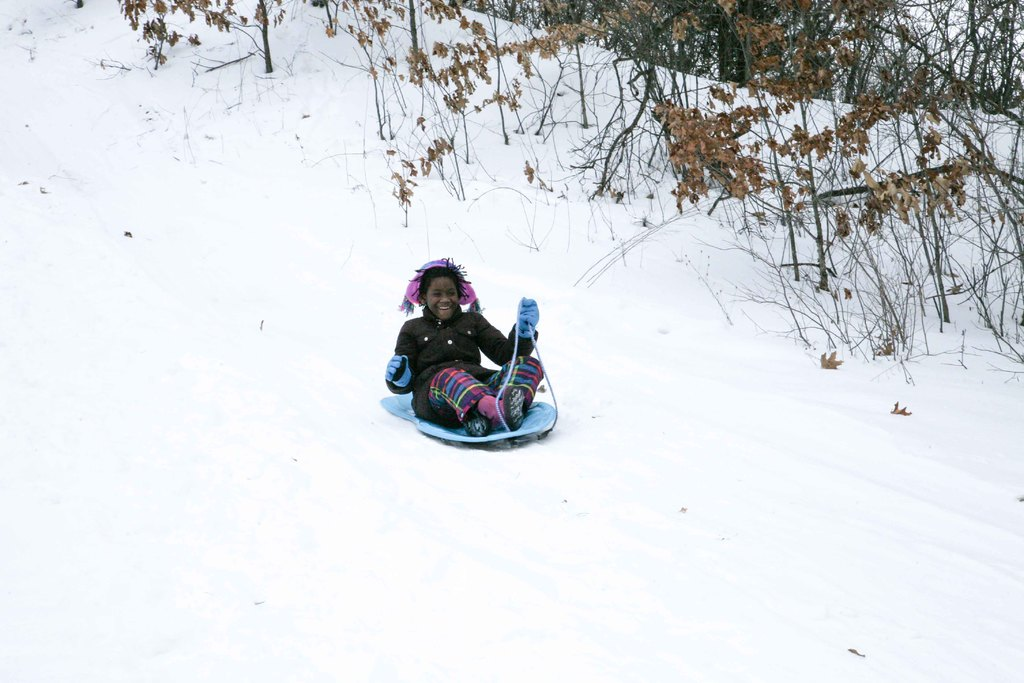Person: (384, 257, 544, 436)
